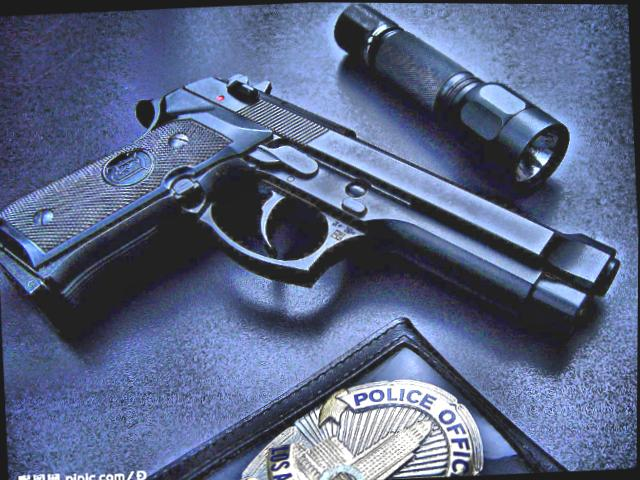pistol: (0, 52, 624, 365)
